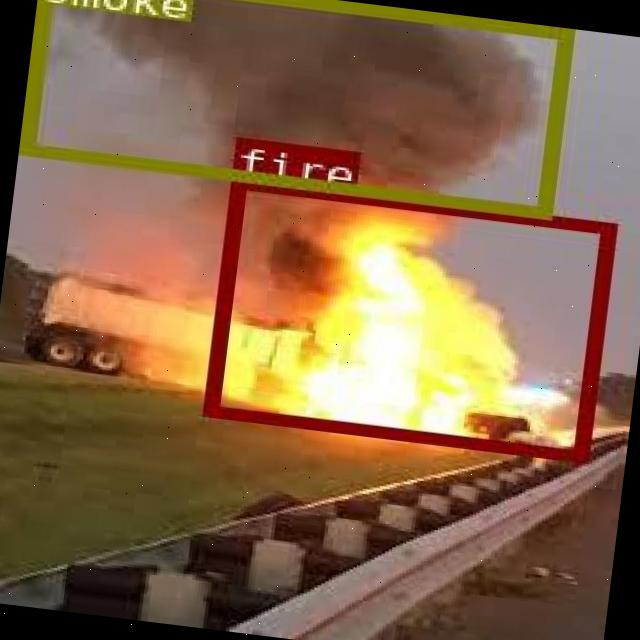fire: (200, 175, 613, 460)
smoke: (18, 0, 568, 216)
